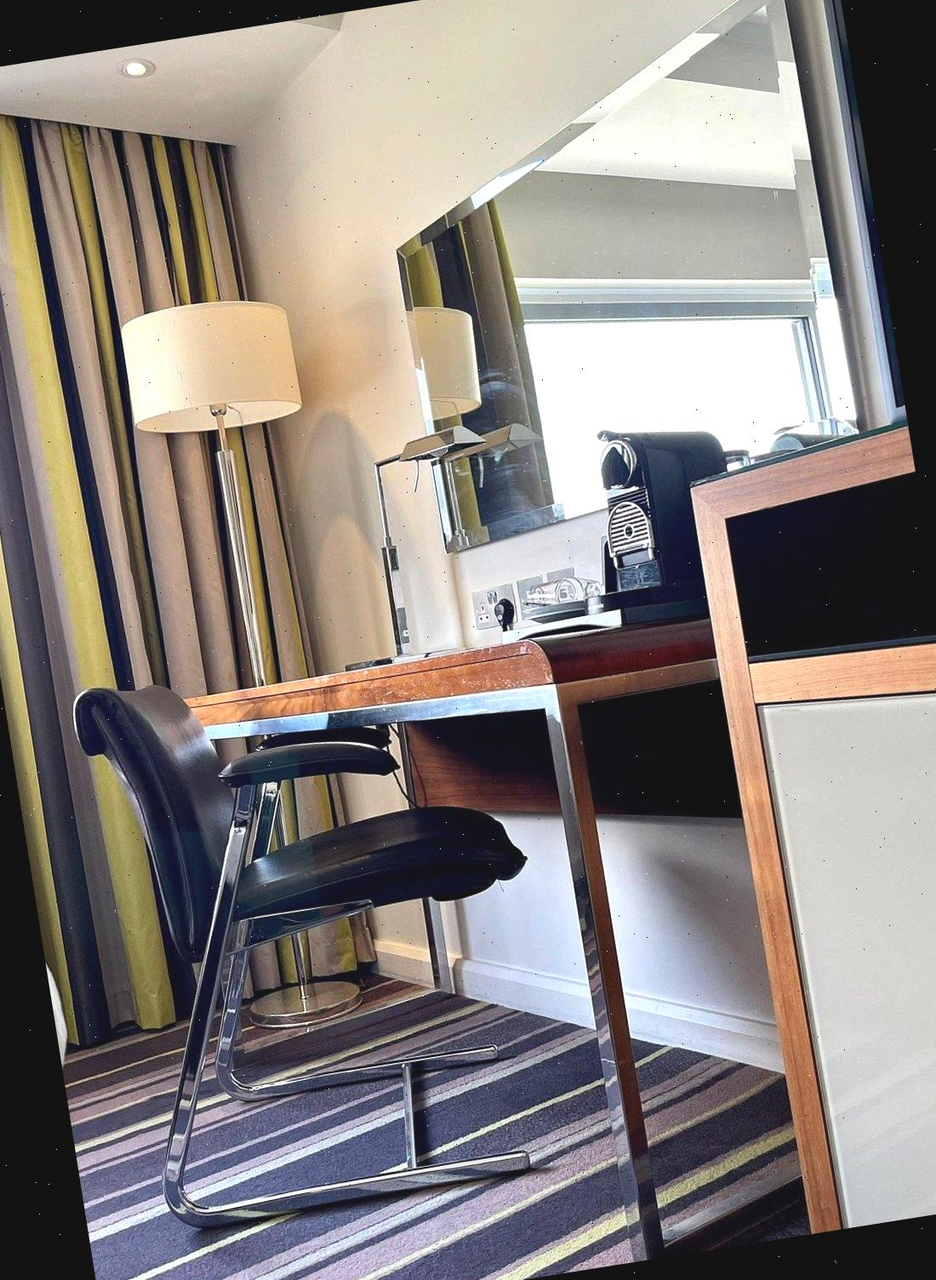chair: (93, 631, 573, 1244)
clean_floor: (60, 944, 816, 1280)
lamp: (121, 282, 369, 701)
organized table: (184, 461, 766, 774)
